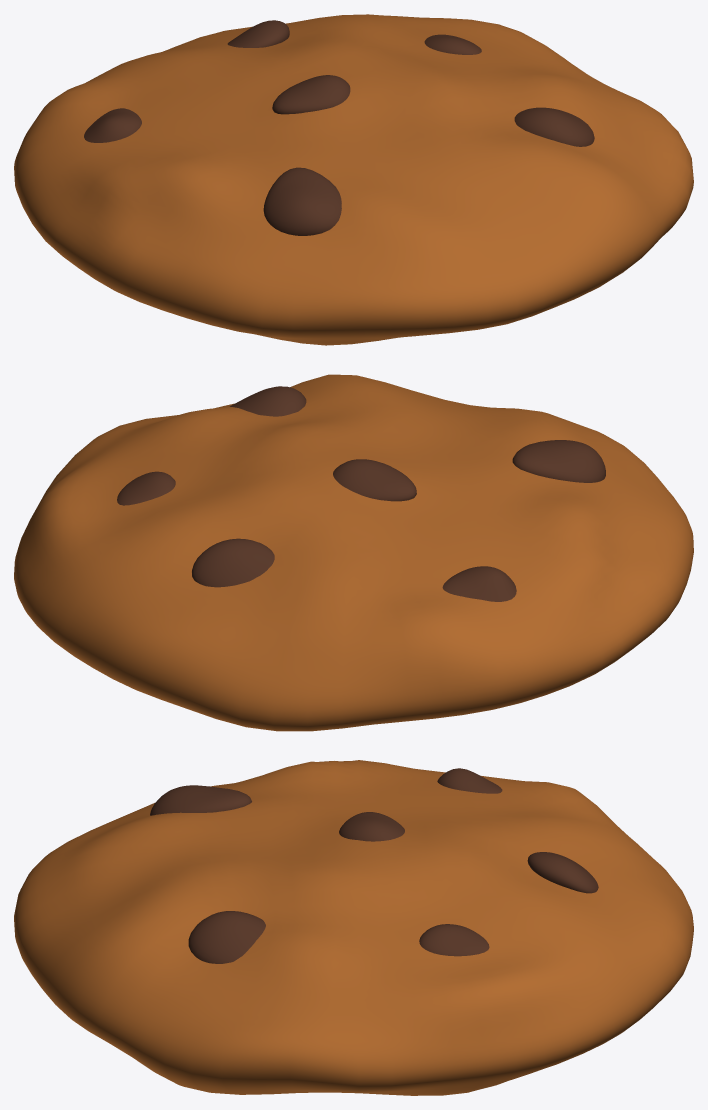
The model's file is Cookie.fbx.
3 renders of one model, top to bottom at view 1: azimuth 30°, elevation 25°; view 2: azimuth 150°, elevation 25°; view 3: azimuth 270°, elevation 25°, orthographic. The views are drawn at different scales.
Parts seen in each view (by area): view 1: Cube.001; view 2: Cube.001; view 3: Cube.001.
Part boxes in pixels (x1=…): Cube.001: x1=14, y1=14, x2=693, y2=345; Cube.001: x1=14, y1=374, x2=693, y2=731; Cube.001: x1=14, y1=760, x2=693, y2=1095.
Size of the model in its own units: 40.24 by 11.57 by 41.16.
